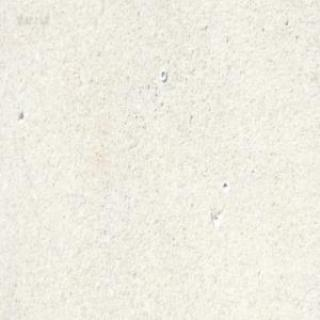Washertrack_idkeyframe: (159, 68, 166, 81)
